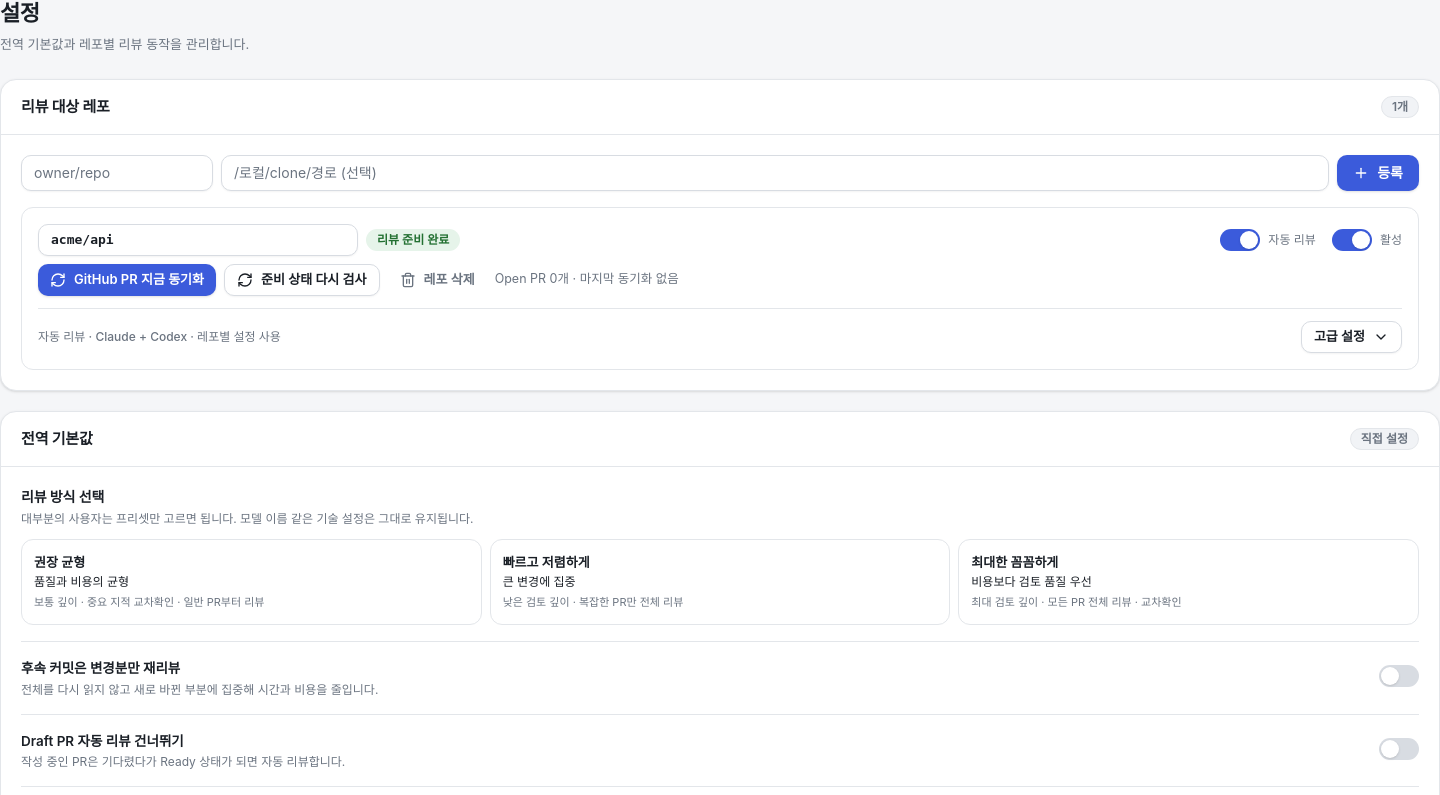
Test: a failed repo patch does not roll back another field that saved successfully
Step 1. Click the button "고급 설정" in the row of "자동 리뷰 · Claude + Codex · 레포별 설정 사용" → (1351, 337), box x1=1301 y1=321 x2=1402 y2=353
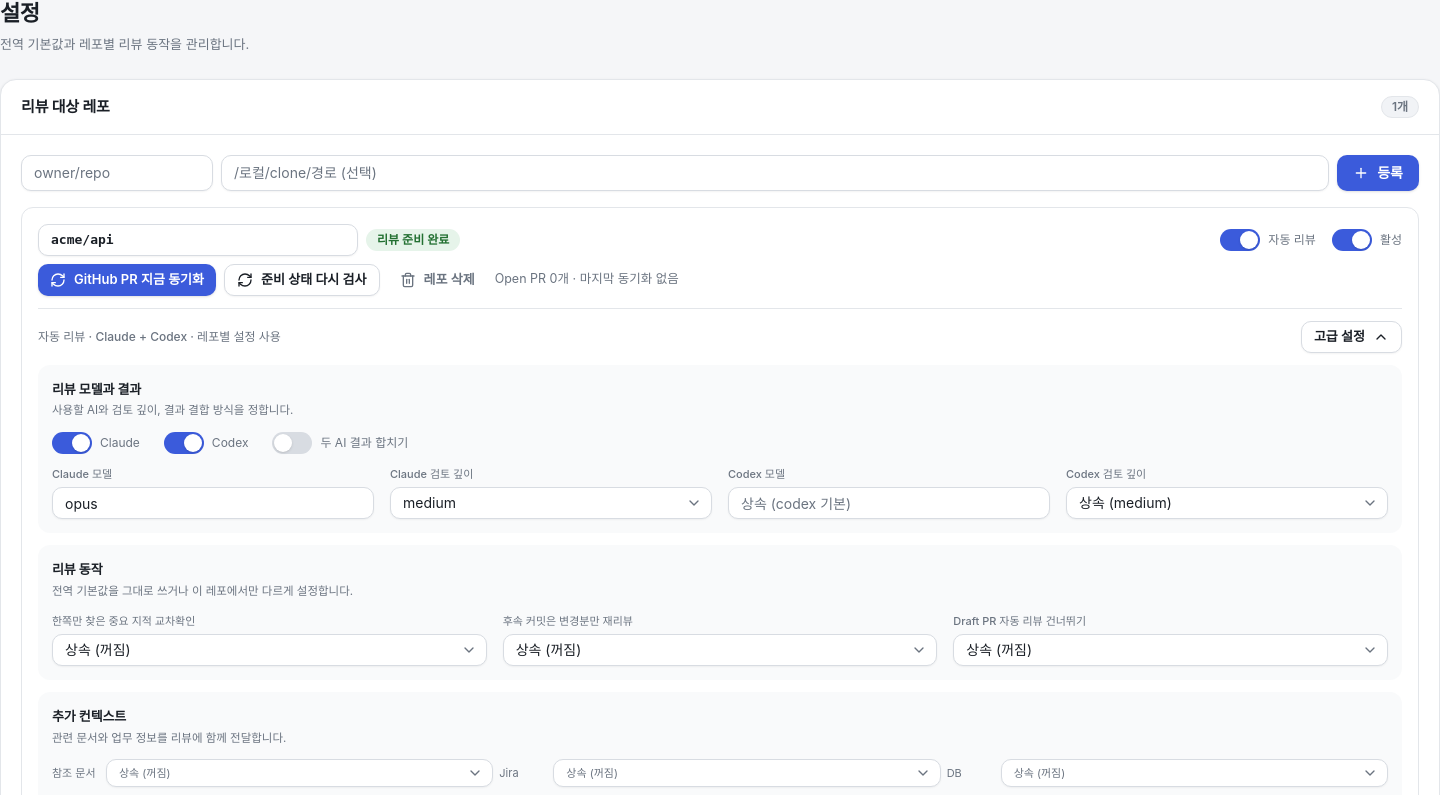
Step 2. Replace the text in the field named "acme/api Claude 모델" with "haiku" → (213, 503), box x1=52 y1=487 x2=374 y2=519
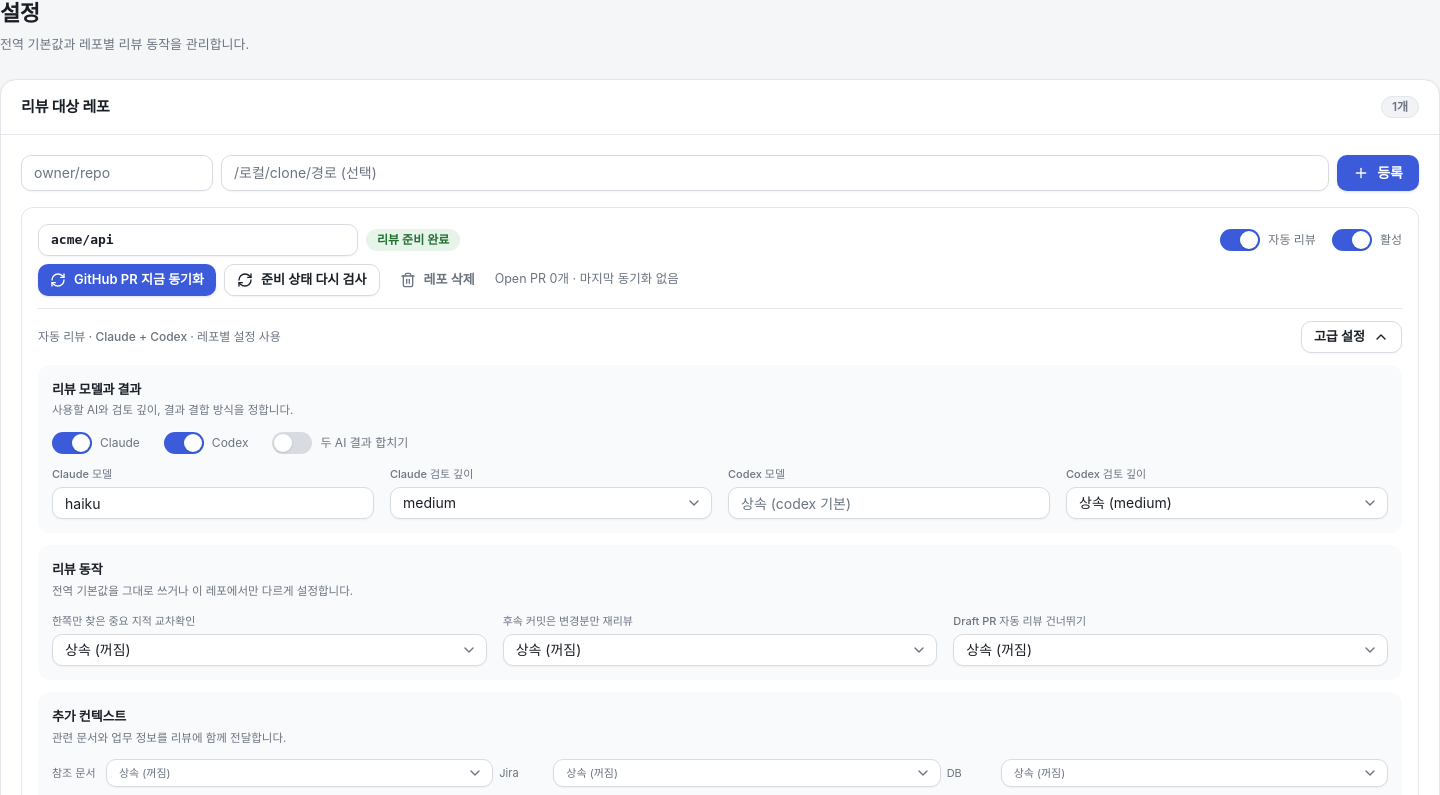
Step 3. Select "high" in the dropdown named "acme/api Claude effort" → (551, 503), box x1=390 y1=487 x2=712 y2=519
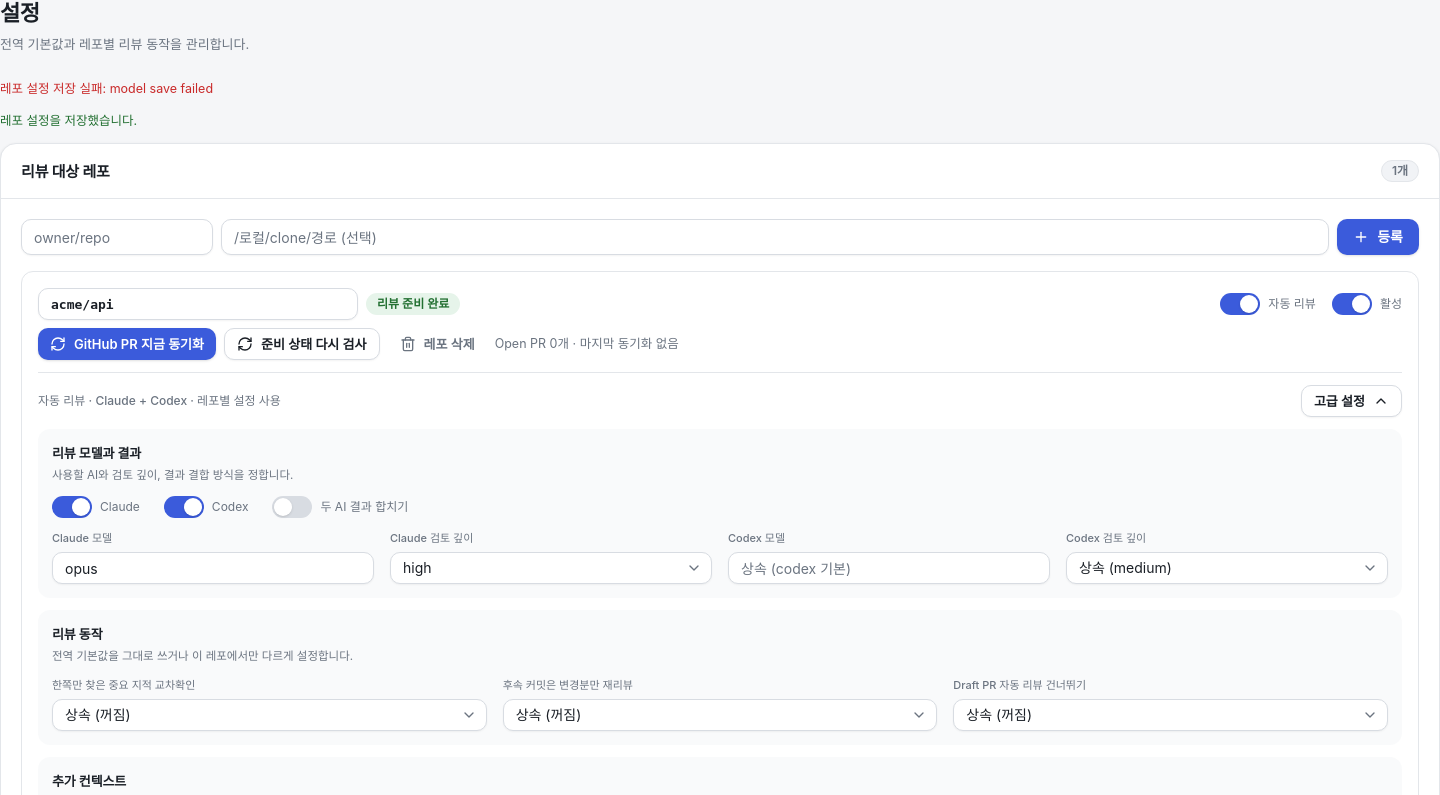
Expected: the field named "acme/api Claude 모델" holds "opus", x1=52 y1=552 x2=374 y2=584
